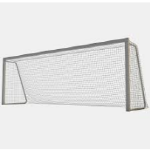goals: (1, 36, 149, 116)
